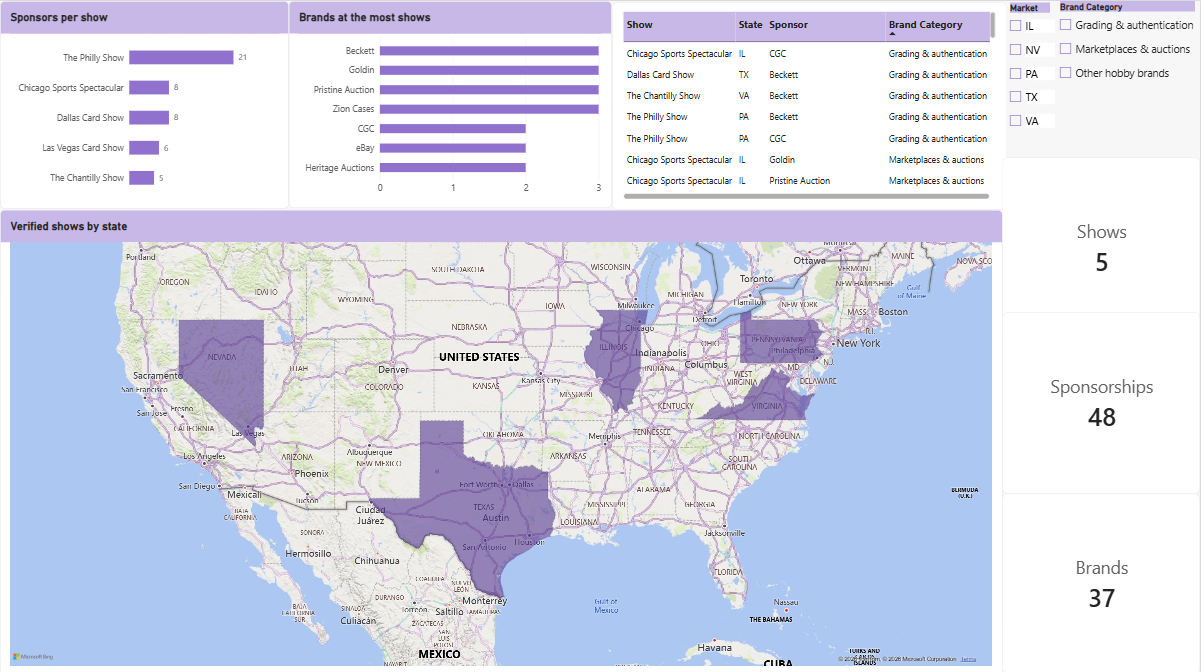

This screenshot's page, from the dashboard's own definition file:
{"tool":"powerbi","page":{"name":"Page 1","canvas":[1920,1080],"ordinal":0},"visuals":[{"type":"clusteredBarChart","title":"Sponsors per show","fields":{"Category":["Sponsors.Show"],"Y":["Sponsors.Total Sponsors"]},"box":[0,0,462.3,332.1],"z":0},{"type":"clusteredBarChart","title":"Brands at the most shows","fields":{"Category":["Sponsors.Sponsor"],"Y":["Sponsors.Total Shows"]},"box":[462.3,0,517,331],"z":1},{"type":"filledMap","title":"Verified shows by state","fields":{"Category":["Sponsors.State"]},"box":[0,334,1603.8,747.2],"z":2},{"type":"tableEx","fields":{"Values":["Sponsors.Show","Sponsors.State","Sponsors.Sponsor","Sponsors.Brand_category"]},"box":[979.2,1.9,630.2,332.1],"z":3},{"type":"slicer","fields":{"Values":["Sponsors.State"]},"box":[1608,1.7,80.3,220.2],"z":4},{"type":"slicer","fields":{"Values":["Sponsors.Brand_category"]},"box":[1688.1,0,232.1,167],"z":5},{"type":"cardVisual","fields":{"Data":["Sponsors.Total Shows"]},"box":[1603.8,249.1,317,290.6],"z":6},{"type":"cardVisual","fields":{"Data":["Sponsors.Total Sponsors"]},"box":[1603.8,788.7,317,290.6],"z":7},{"type":"cardVisual","fields":{"Data":["Sponsors.Total Sponsorships"]},"box":[1603.8,498.1,317,290.6],"z":8}]}

Visuals, with their boxes in screenshot pixels (x1, y1, x2, y2), scaled from the page's 1920x1080 canvas onto the 1201x672 screenshot:
"Sponsors per show" clusteredBarChart: <region>0, 0, 289, 207</region>
"Brands at the most shows" clusteredBarChart: <region>289, 0, 613, 206</region>
"Verified shows by state" filledMap: <region>0, 208, 1003, 671</region>
tableEx - Sponsors.Show x Sponsors.State: <region>613, 1, 1007, 208</region>
slicer - Sponsors.State: <region>1006, 1, 1056, 138</region>
slicer - Sponsors.Brand_category: <region>1056, 0, 1200, 104</region>
cardVisual - Sponsors.Total Shows: <region>1003, 155, 1200, 336</region>
cardVisual - Sponsors.Total Sponsors: <region>1003, 491, 1200, 671</region>
cardVisual - Sponsors.Total Sponsorships: <region>1003, 310, 1200, 491</region>
